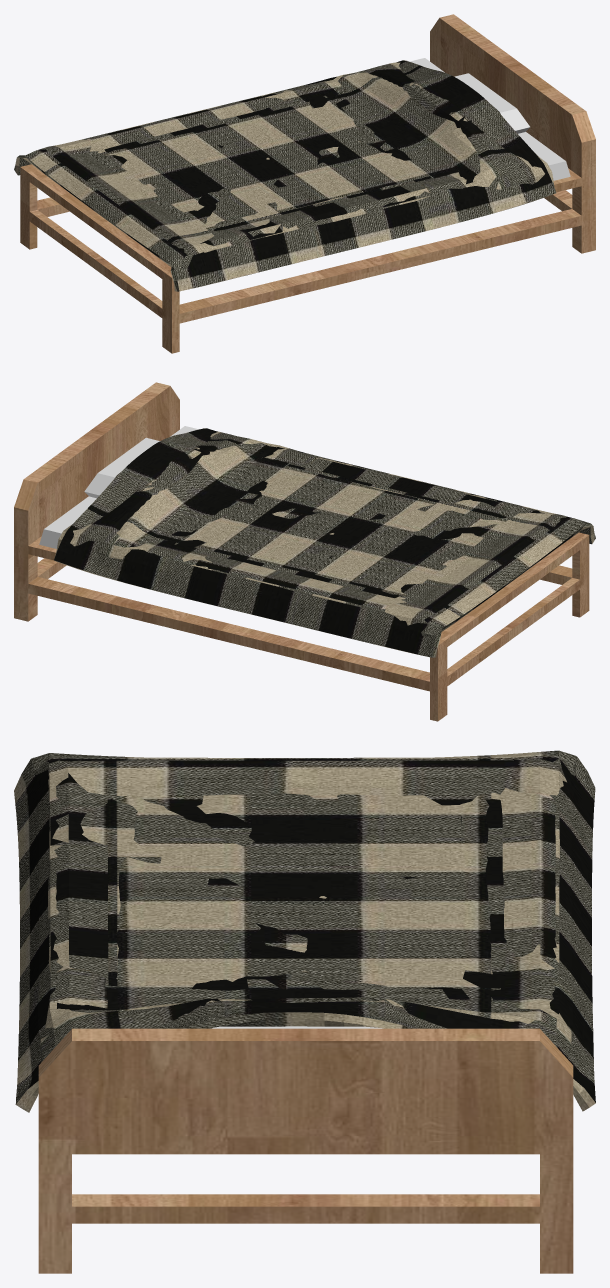
File: кровать.fbx
The picture shows the model from 3 angles, top to bottom: view 1: azimuth 30°, elevation 25°; view 2: azimuth 150°, elevation 25°; view 3: azimuth 270°, elevation 25°; orthographic projection. The views are drawn at different scales.
Parts seen in each view (by area): view 1: Plane, Cube; view 2: Plane, Cube; view 3: Plane, Cube.
Part boxes in pixels (x1,y1,x2,y2): Plane: (14, 60, 556, 291); Cube: (20, 14, 595, 353); Plane: (54, 428, 595, 657); Cube: (14, 382, 589, 721); Plane: (14, 750, 595, 1112); Cube: (38, 1026, 573, 1273).
Bounding box in the file's own units: 1018 × 300 × 682.
